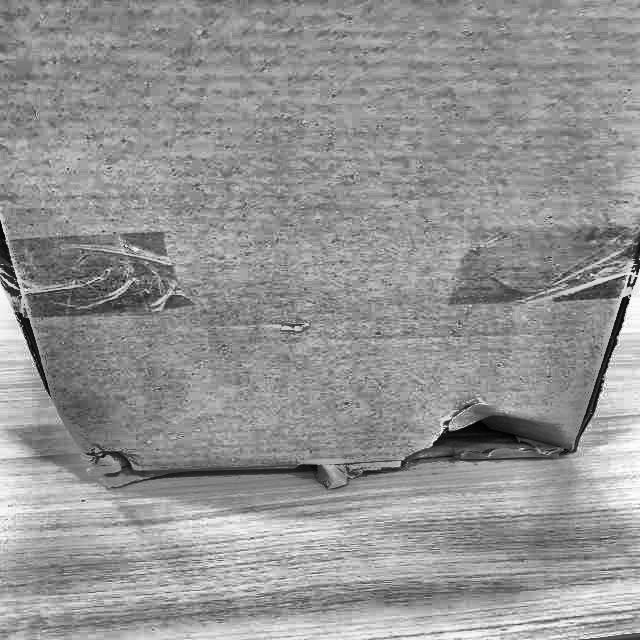box: (0, 0, 639, 501)
hole: (368, 392, 597, 471)
